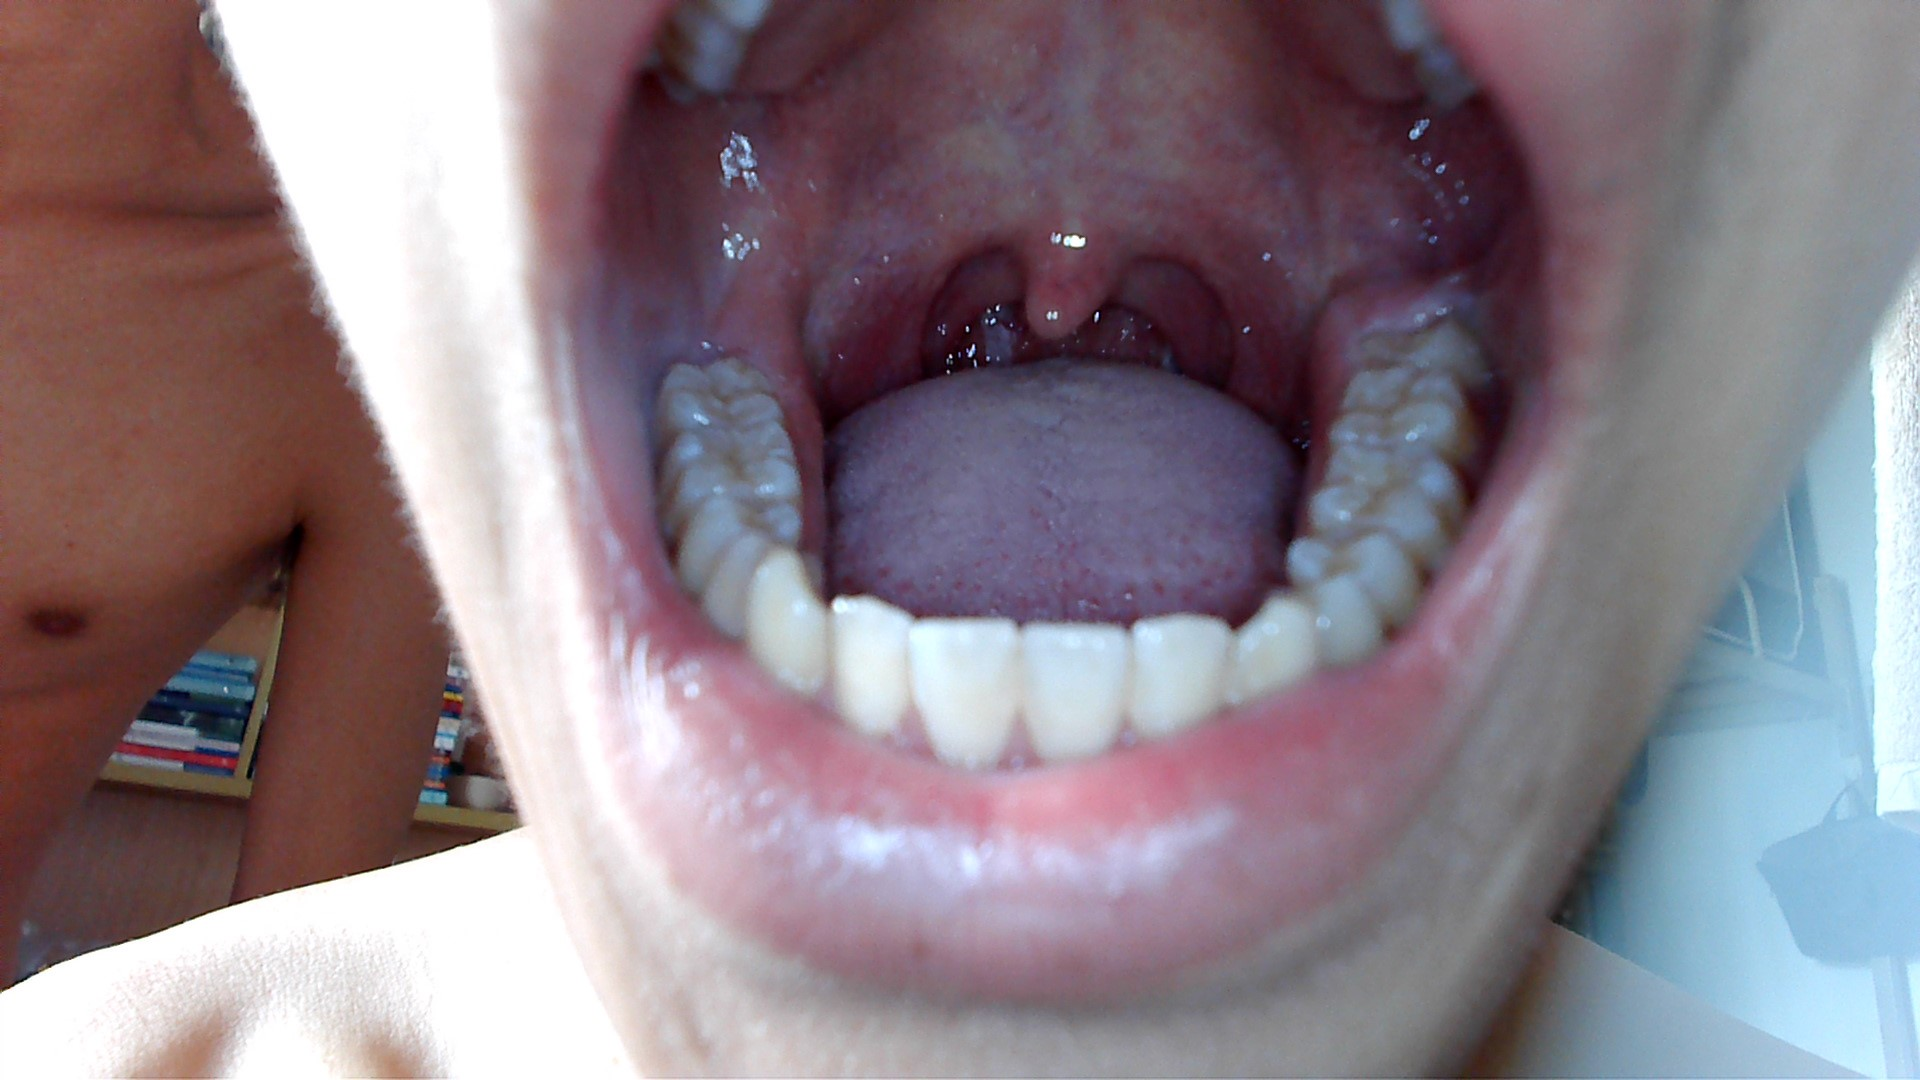throat: (1166, 244, 1262, 392), (894, 232, 986, 372)
